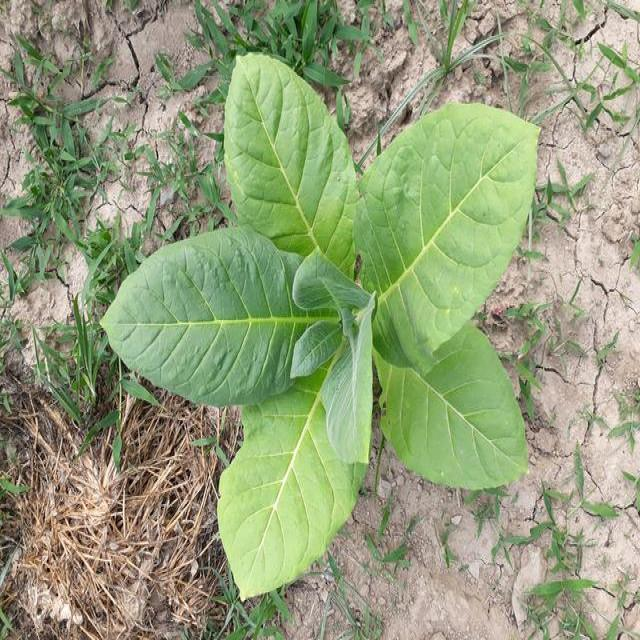crop: (102, 52, 549, 602)
